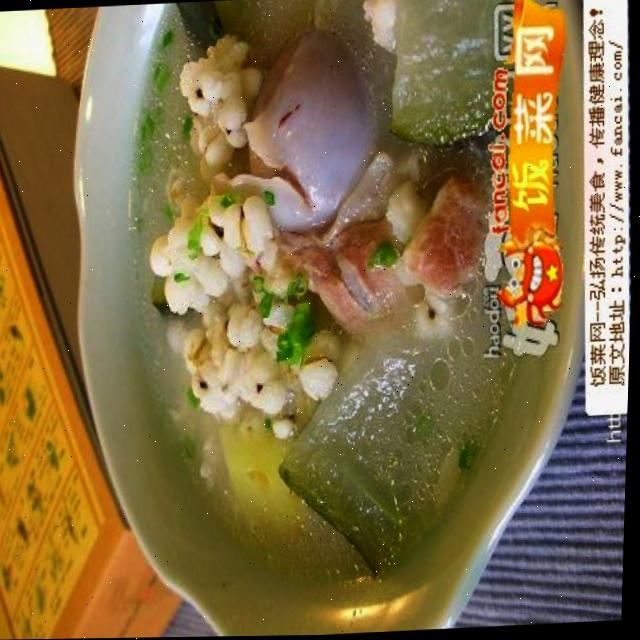汤锅炖物: (101, 0, 609, 625)
